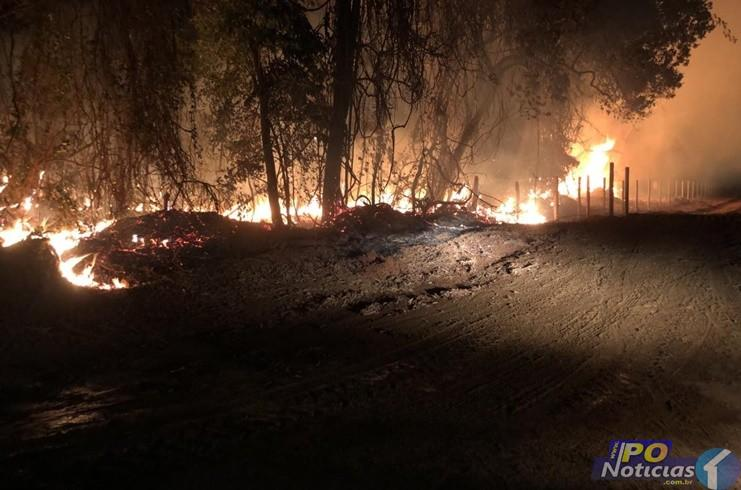fire: (569, 145, 614, 198), (497, 198, 545, 224), (228, 199, 276, 223), (51, 228, 93, 255), (0, 215, 34, 247), (66, 265, 100, 286), (291, 200, 326, 218)
